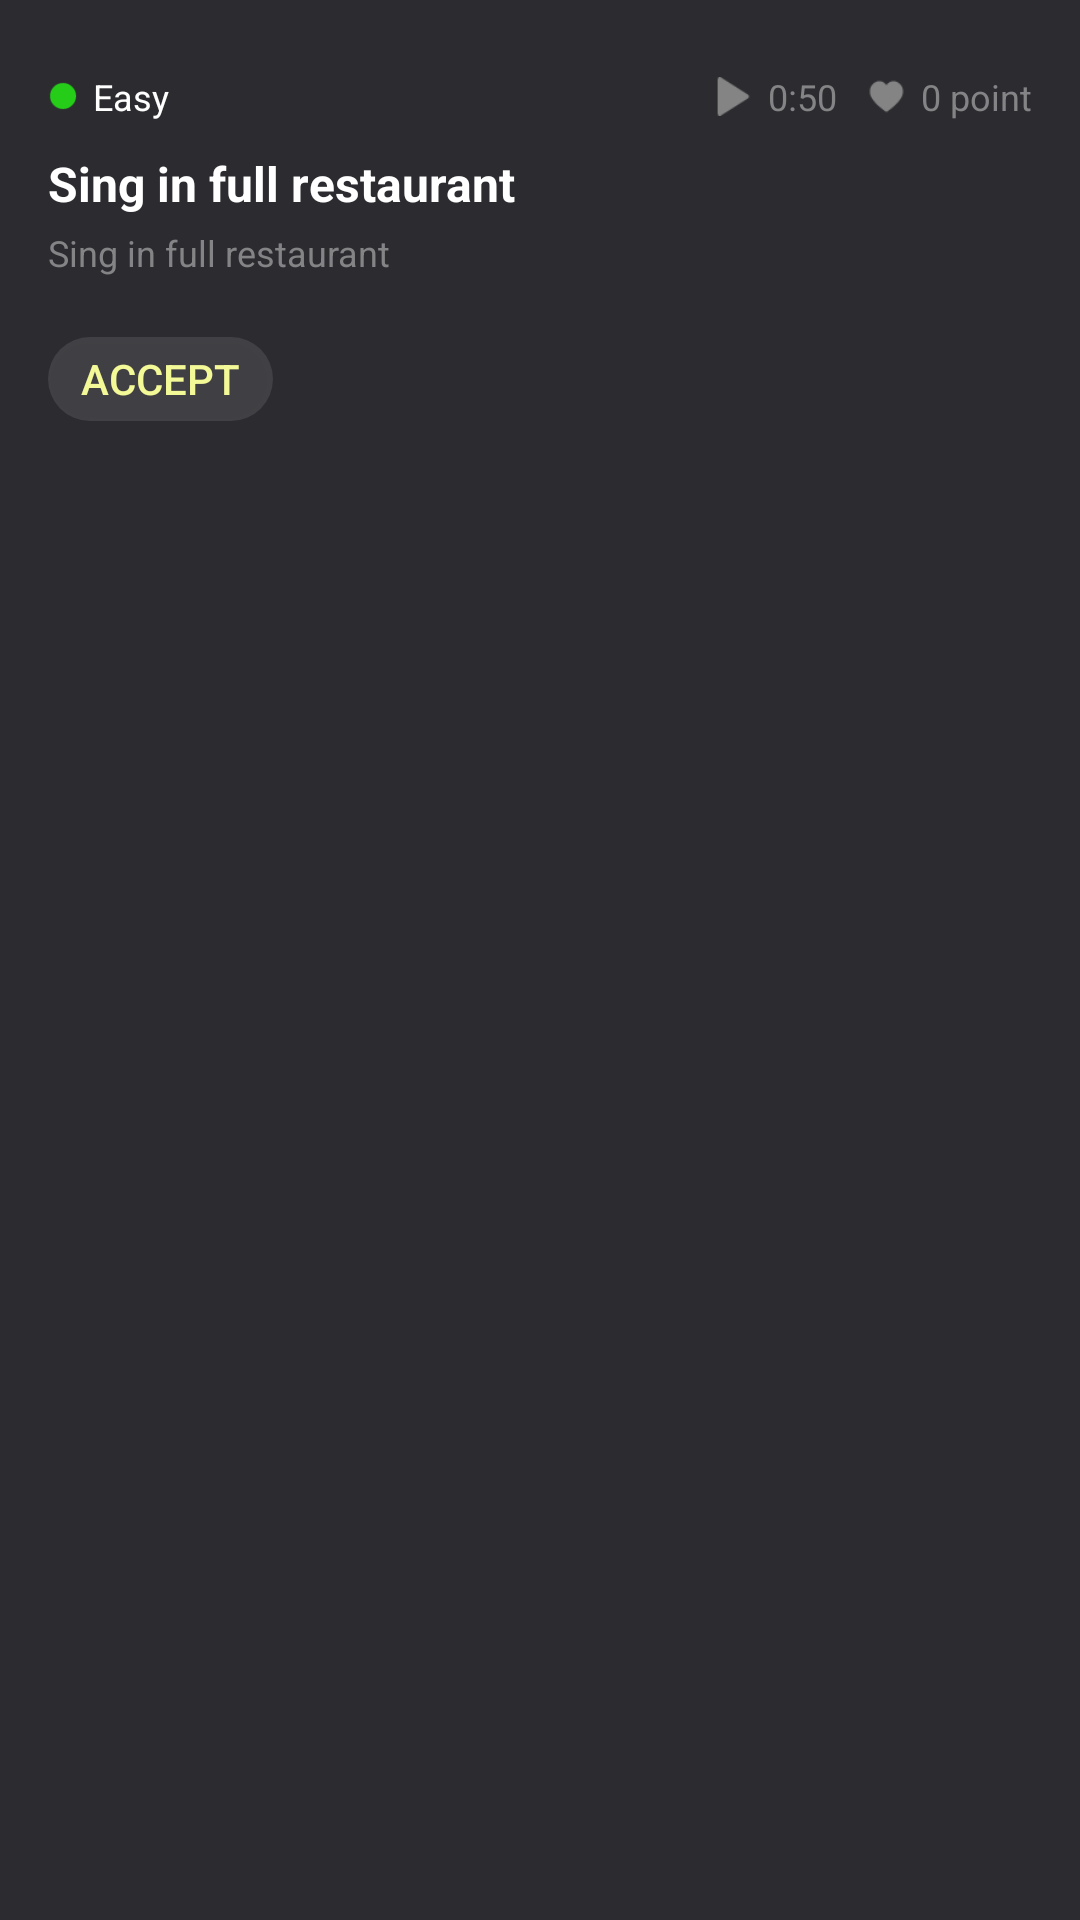

Icon bounding boxes for this 1080×1920 phone screenshot, format [left=x1, top=y1, right=x2, bottom=y2]:
favorite: [left=869, top=81, right=903, bottom=112]
play: [left=717, top=77, right=749, bottom=116]
